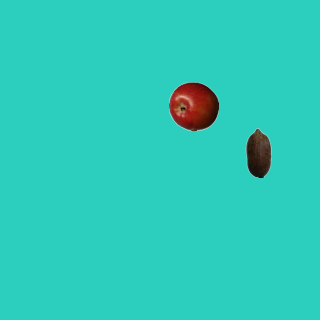Apple Braeburn: (168, 81, 218, 131)
Nut Pecan: (233, 127, 283, 177)
